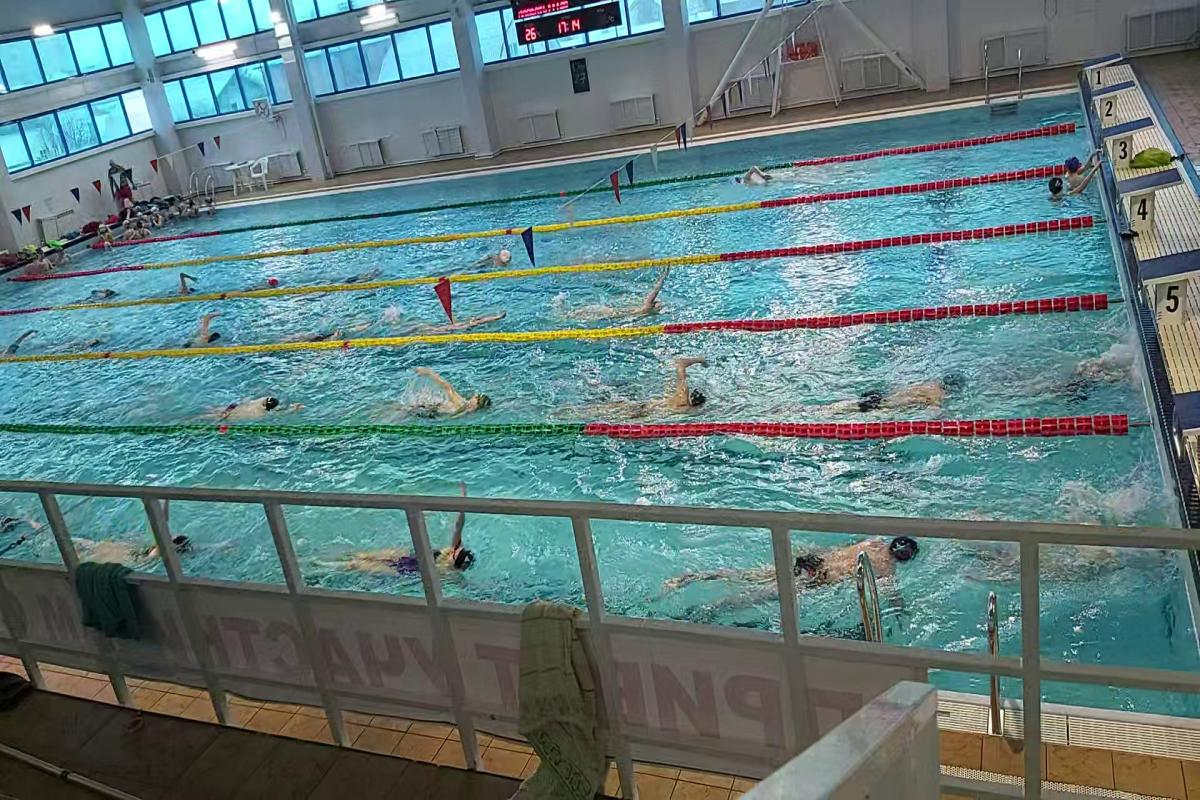swimmer: (666, 538, 932, 598), (321, 519, 487, 585), (594, 346, 724, 422), (58, 516, 206, 578), (839, 365, 966, 421), (405, 361, 499, 421), (619, 267, 682, 323), (204, 393, 311, 423), (180, 315, 225, 351), (166, 274, 200, 296), (480, 250, 516, 268)
